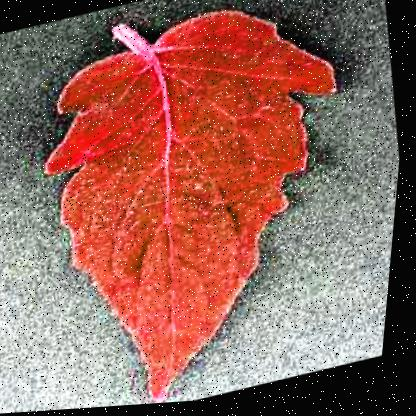Healthy: (1, 0, 399, 413)
